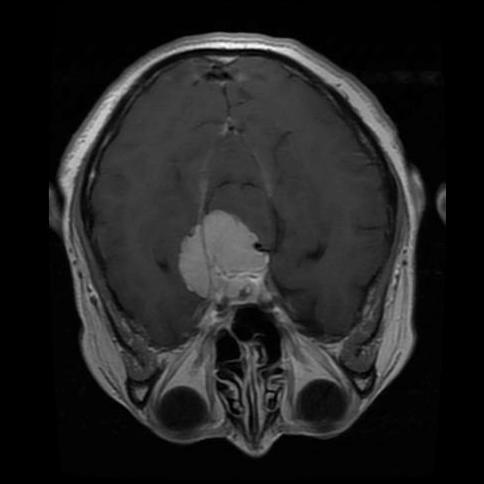Tumour-Meningioma: (154, 192, 309, 329)
